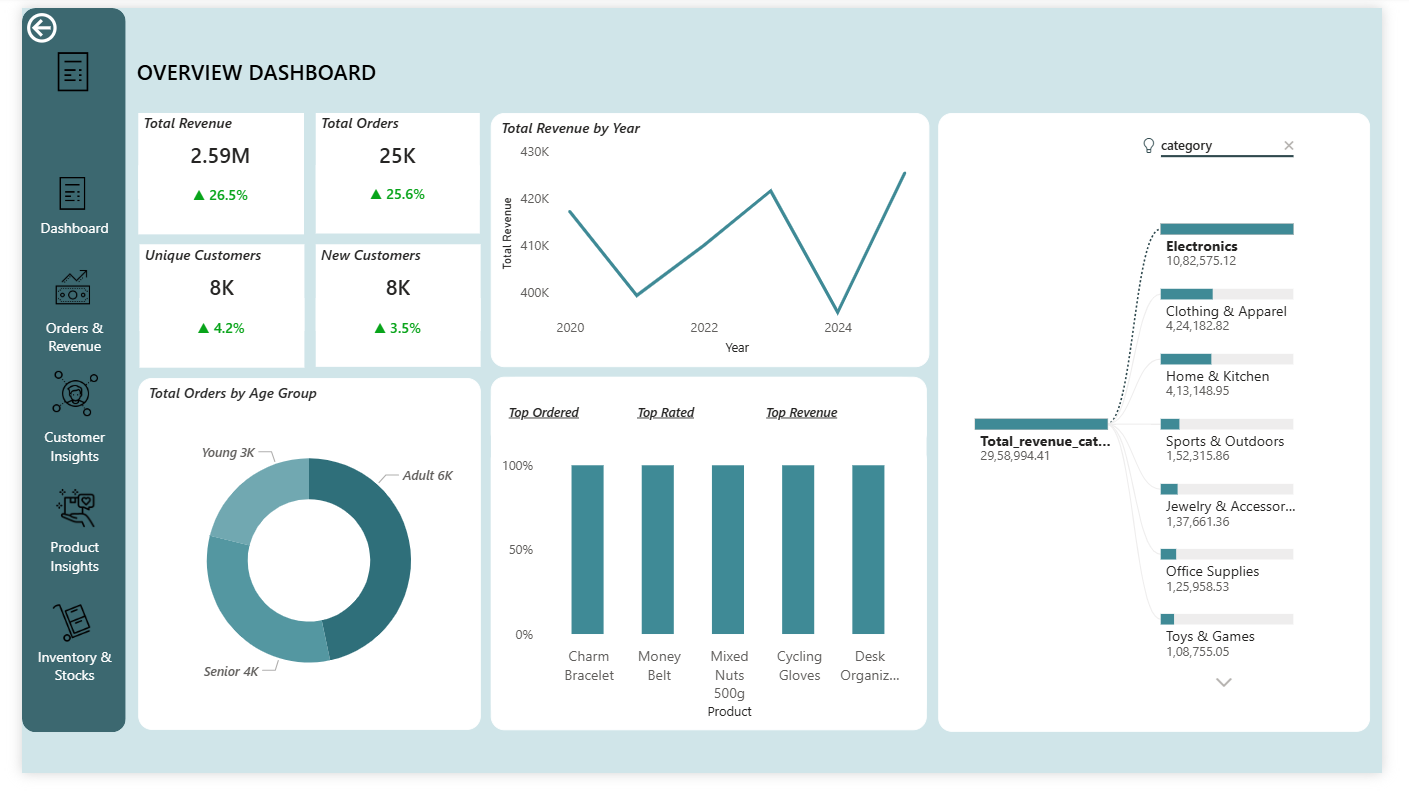

The page's visual inventory and layout, read from the dashboard file:
{"tool":"powerbi","page":{"name":"Dashboard","canvas":[1280,720],"ordinal":0},"visuals":[{"type":"cardVisual","title":"Total Revenue","fields":{"Data":["monthly_revenue.Total Revenue"]},"box":[109.8,98.9,155.6,80.8],"z":0},{"type":"shape","box":[441.6,347.5,410.2,331.8],"z":500},{"type":"cardVisual","fields":{"Data":["monthly_revenue.Revenue KPI Text"]},"box":[109.8,148.4,155.6,65.1],"z":1000},{"type":"cardVisual","title":"Total Orders","fields":{"Data":["orders.Total Orders"]},"box":[276.6,98.8,154.6,81.5],"z":2000},{"type":"cardVisual","fields":{"Data":["orders.Orders KPI Text"]},"box":[276.6,148.8,154.6,63.8],"z":3000},{"type":"cardVisual","title":"Unique Customers","fields":{"Data":["customers.Unique Customers"]},"box":[110.3,222.8,155.1,81.6],"z":4000},{"type":"cardVisual","fields":{"Data":["customers.Customer KPI Text"]},"box":[110.2,272.6,154.9,65.9],"z":5000},{"type":"cardVisual","title":"New Customers","fields":{"Data":["customers.New Customers"]},"box":[276.3,222.2,155.1,81.6],"z":6000},{"type":"cardVisual","fields":{"Data":["customers.New Customer KPI Text"]},"box":[276.2,272.8,154.9,65.2],"z":7000},{"type":"lineChart","fields":{"Y":["monthly_revenue.Total Revenue"],"Category":["Date_Table.Year"]},"box":[441.6,98.7,413,239],"z":8000},{"type":"donutChart","title":"Total Orders by Age Group ","fields":{"Y":["orders.Total Orders"],"Category":["customers.age group"]},"box":[109.1,348.1,322.1,331.2],"z":9000},{"type":"hundredPercentStackedColumnChart","title":"Top Products","fields":{"Y":["MetricTable.Dynamic Top 5 Value"],"Category":["product_summary.product_name"]},"box":[441.6,411.4,410.2,267.8],"z":10000},{"type":"advancedSlicerVisual","fields":{"Values":["MetricTable.MetricName"]},"box":[441.6,347.5,410.2,66.4],"z":11000},{"type":"decompositionTreeVisual","fields":{"Analyze":["product_summary.Total_revenue_category"],"ExplainBy":["product_summary.category"]},"box":[862.6,98.9,406.6,582.7],"z":12000},{"type":"shape","box":[0,0,97.7,681.6],"z":13000},{"type":"pageNavigator","box":[10.9,158,78.4,510.3],"z":14000},{"type":"image","box":[8.4,158,78.4,33.8],"z":15000},{"type":"image","box":[9.7,241.3,77.2,43.4],"z":16000},{"type":"image","box":[10.9,337.8,78.4,50.7],"z":17000},{"type":"image","box":[12.1,448.8,77.2,44.6],"z":18000},{"type":"actionButton","box":[0,0,100.1,37.4],"z":18500},{"type":"image","box":[8.4,561,77.2,35],"z":19000},{"type":"image","box":[0,39.8,96.5,39.8],"z":20000},{"type":"shape","box":[108.6,30.2,359.5,57.9],"z":21000}]}

Visuals, with their boxes on the page's 1280x720 design canvas (x1, y1, x2, y2). These are canvas units, not pixel positions in the 1409x795 screenshot, which may show the page scaled, cropped or inside an application window:
"Total Revenue" cardVisual: [left=110, top=99, right=265, bottom=180]
shape: [left=442, top=348, right=852, bottom=679]
cardVisual - monthly_revenue.Revenue KPI Text: [left=110, top=148, right=265, bottom=214]
"Total Orders" cardVisual: [left=277, top=99, right=431, bottom=180]
cardVisual - orders.Orders KPI Text: [left=277, top=149, right=431, bottom=213]
"Unique Customers" cardVisual: [left=110, top=223, right=265, bottom=304]
cardVisual - customers.Customer KPI Text: [left=110, top=273, right=265, bottom=338]
"New Customers" cardVisual: [left=276, top=222, right=431, bottom=304]
cardVisual - customers.New Customer KPI Text: [left=276, top=273, right=431, bottom=338]
lineChart - monthly_revenue.Total Revenue x Date_Table.Year: [left=442, top=99, right=855, bottom=338]
"Total Orders by Age Group " donutChart: [left=109, top=348, right=431, bottom=679]
"Top Products" hundredPercentStackedColumnChart: [left=442, top=411, right=852, bottom=679]
advancedSlicerVisual - MetricTable.MetricName: [left=442, top=348, right=852, bottom=414]
decompositionTreeVisual - product_summary.Total_revenue_category x product_summary.category: [left=863, top=99, right=1269, bottom=682]
shape: [left=0, top=0, right=98, bottom=682]
pageNavigator: [left=11, top=158, right=89, bottom=668]
image: [left=8, top=158, right=87, bottom=192]
image: [left=10, top=241, right=87, bottom=285]
image: [left=11, top=338, right=89, bottom=388]
image: [left=12, top=449, right=89, bottom=493]
actionButton: [left=0, top=0, right=100, bottom=37]
image: [left=8, top=561, right=86, bottom=596]
image: [left=0, top=40, right=96, bottom=80]
shape: [left=109, top=30, right=468, bottom=88]
